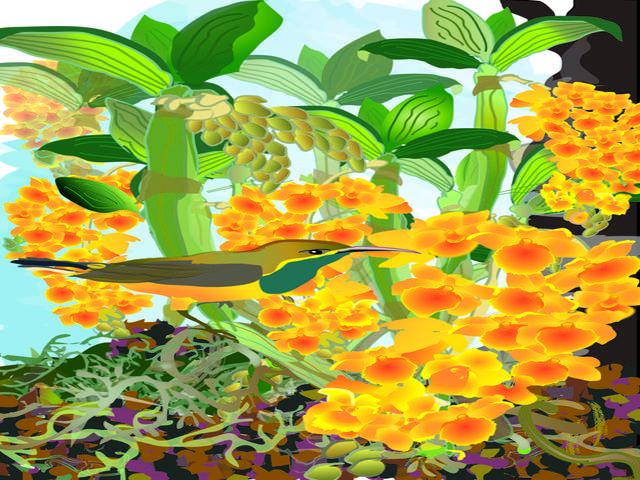bird: (11, 228, 438, 346)
